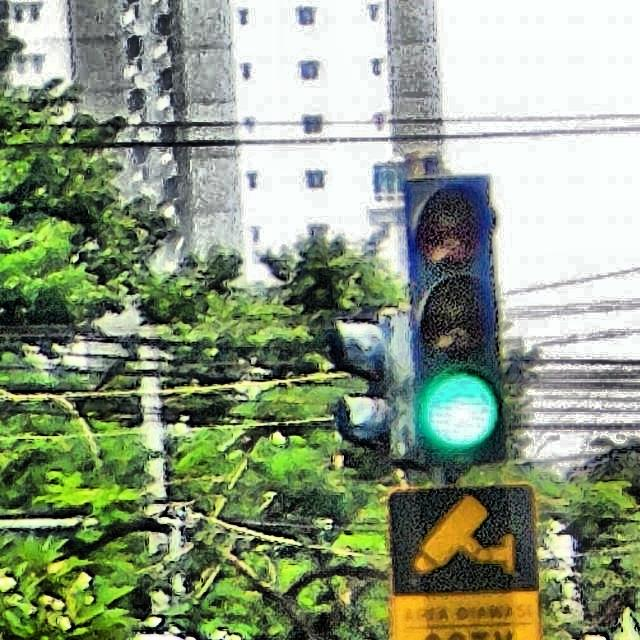green: (399, 179, 505, 468)
